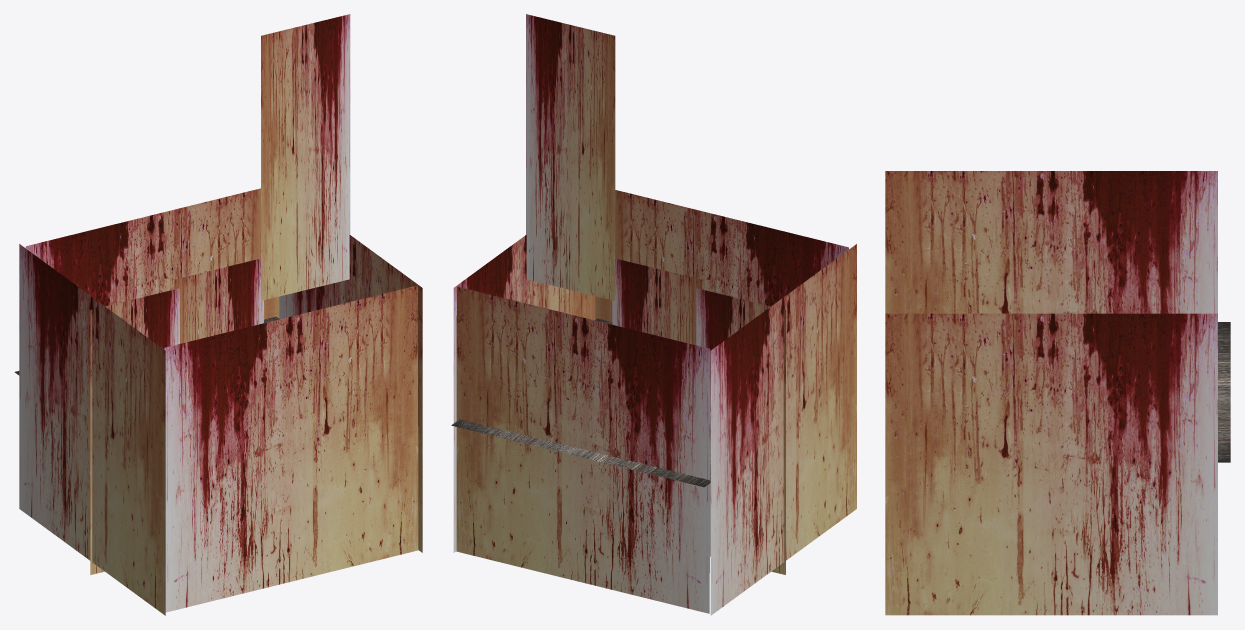
3 views of the same model, side by side, from view 1: azimuth 30°, elevation 25°; view 2: azimuth 150°, elevation 25°; view 3: azimuth 270°, elevation 25° (orthographic). The views are drawn at different scales.
Visible parts, largest first — view 1: Plane_6, Plane_2, Plane_4, Plane_7, Plane_3, Plane_5, Plane_1; view 2: Plane_7, Plane_2, Plane_4, Plane_6, Plane_3, Plane_5, Plane_1, Plane; view 3: Plane_5, Plane_2, Plane.
Boxes of the visible parts, x1=… form: Plane_6: x1=164, y1=285, x2=418, y2=612; Plane_2: x1=19, y1=244, x2=165, y2=615; Plane_4: x1=261, y1=14, x2=350, y2=300; Plane_7: x1=25, y1=188, x2=279, y2=319; Plane_3: x1=174, y1=258, x2=263, y2=343; Plane_5: x1=279, y1=235, x2=422, y2=552; Plane_1: x1=90, y1=288, x2=179, y2=574; Plane_7: x1=456, y1=286, x2=710, y2=613; Plane_2: x1=710, y1=244, x2=856, y2=615; Plane_4: x1=526, y1=14, x2=615, y2=300; Plane_6: x1=595, y1=190, x2=848, y2=321; Plane_3: x1=612, y1=258, x2=701, y2=345; Plane_5: x1=453, y1=235, x2=595, y2=552; Plane_1: x1=696, y1=288, x2=785, y2=574; Plane: x1=451, y1=318, x2=710, y2=487; Plane_5: x1=885, y1=313, x2=1217, y2=615; Plane_2: x1=885, y1=171, x2=1217, y2=313; Plane: x1=1218, y1=322, x2=1230, y2=462.
Size of the model in its own units: 2.05 by 3.75 by 2.08.
Materials: 2 (2 with a texture image).
